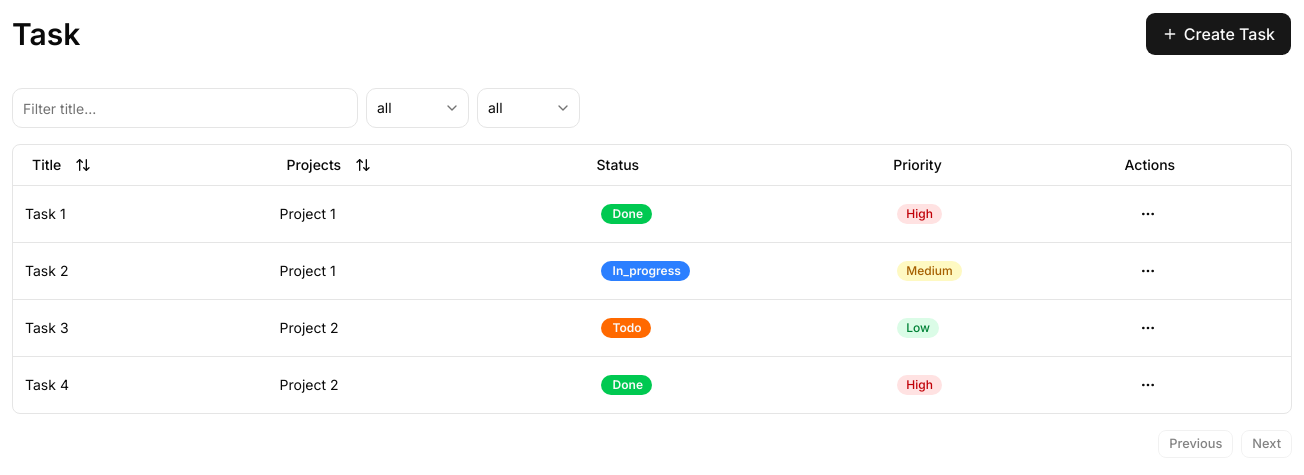
TaskDetailPage › should filter tasks by priority
Expected: the text "Task 1" is shown, [13,185,268,242]
Click the dropdown named "Filter by priority": (528, 108) [477,88,580,128]
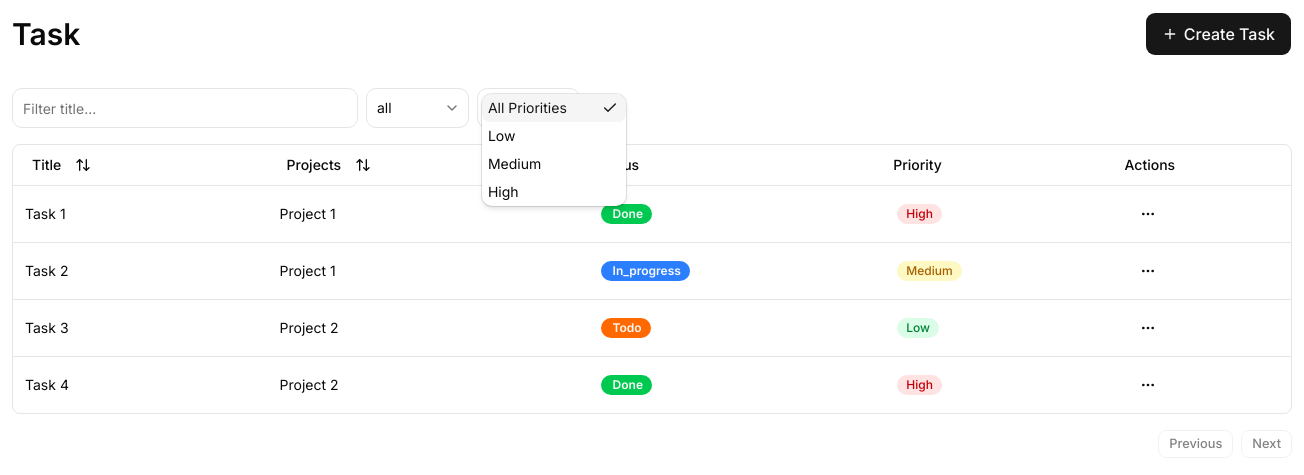
Click the option "High": (503, 192) [488,183,519,200]
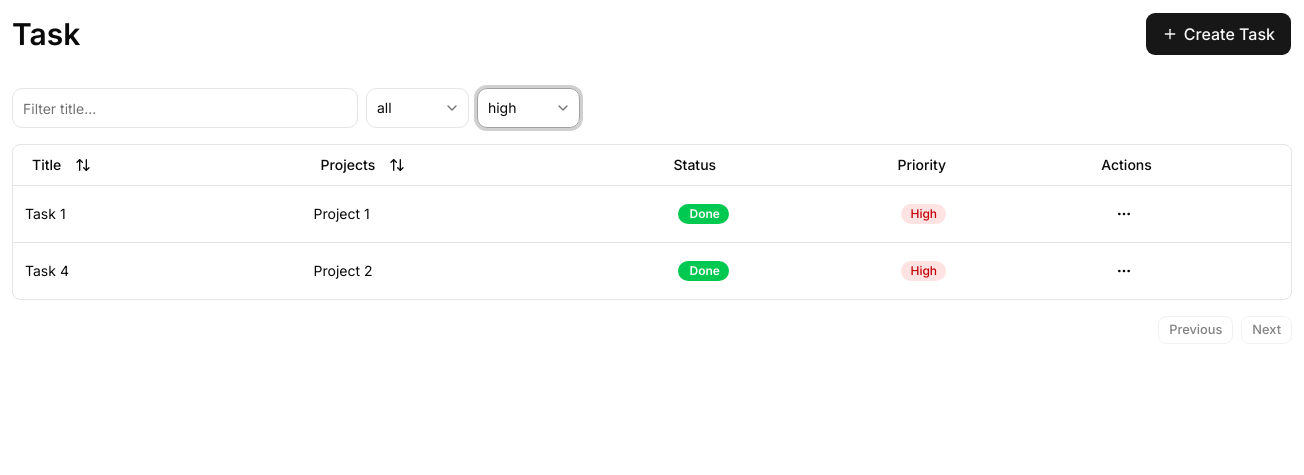
Expected: the text "Task 1" is shown, [13,185,302,242]
Expected: the text "Task 2" is gone
Expected: the text "Task 3" is gone
